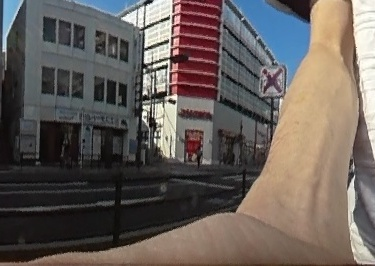person: (195, 146, 202, 164)
